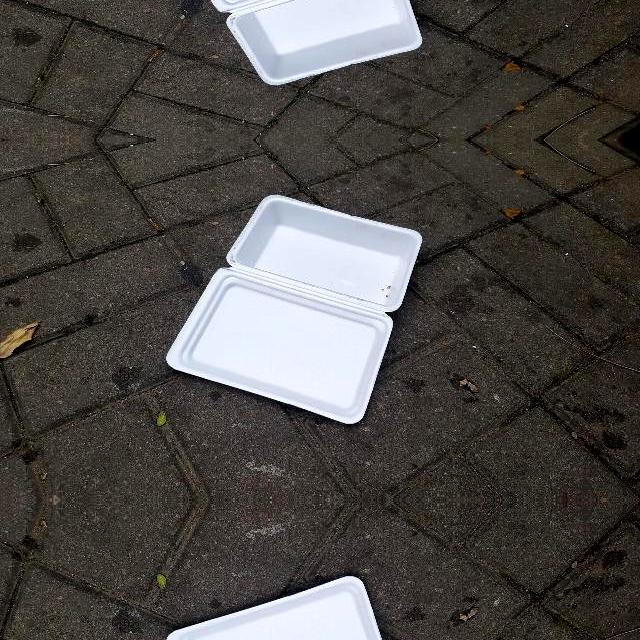Styrofoam: (164, 192, 422, 428), (166, 194, 423, 424), (163, 0, 422, 87), (210, 0, 423, 86), (163, 572, 422, 640), (166, 576, 382, 640)
